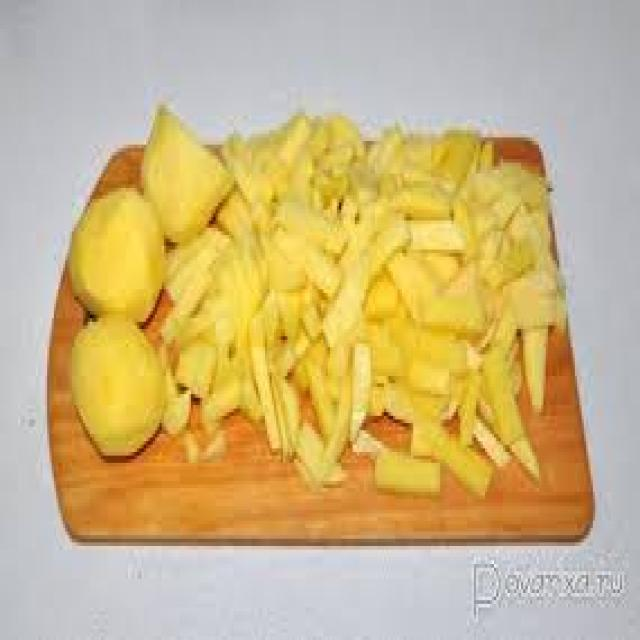Potato: (168, 114, 568, 484), (136, 94, 240, 241), (65, 182, 169, 328), (67, 309, 170, 447)
